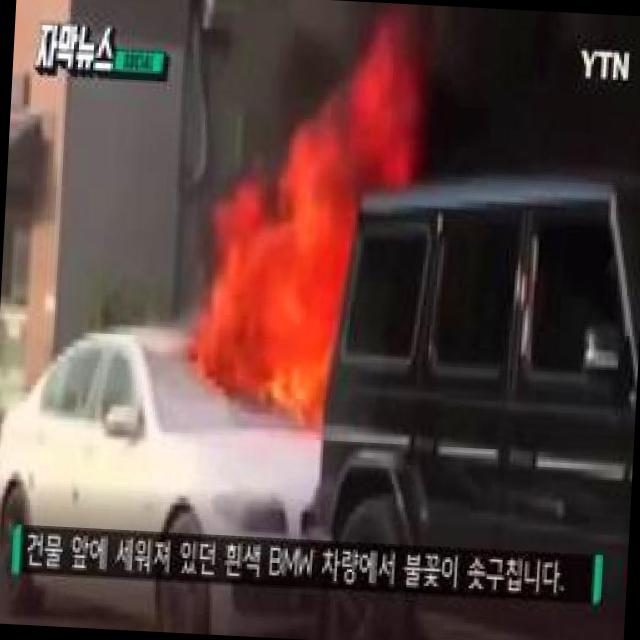Fire: (216, 89, 416, 426)
